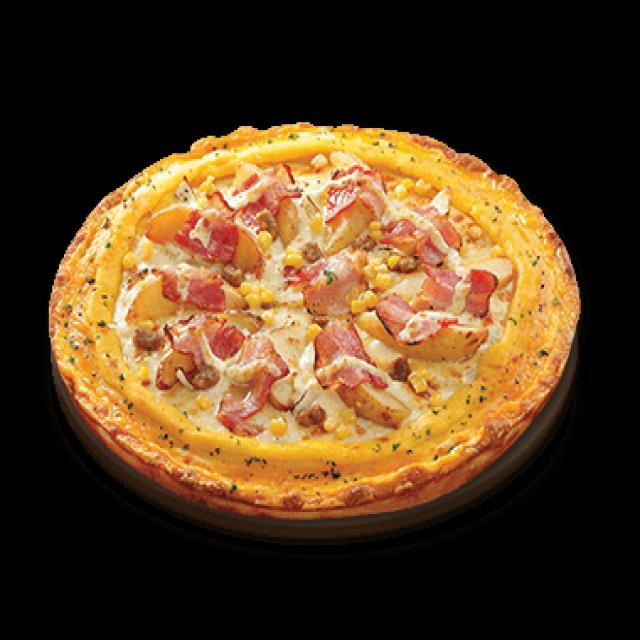Wet Waste: (44, 117, 584, 528)
